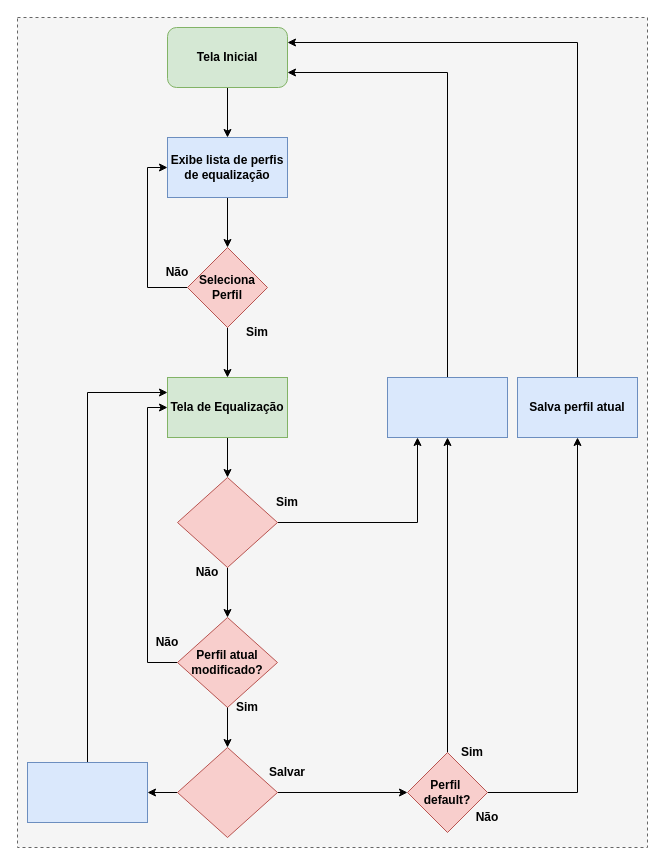
Some shapes in this 665 by 865 pixel diagram are drawn without their labels. The centre of each missing label's shape, as x and y in pixels:
Novo perfil?: pixel 227 522
Restaura valores anteriores: pixel 87 792
Salva novo perfil: pixel 447 407
Salvar ou Restaurar?: pixel 227 792
